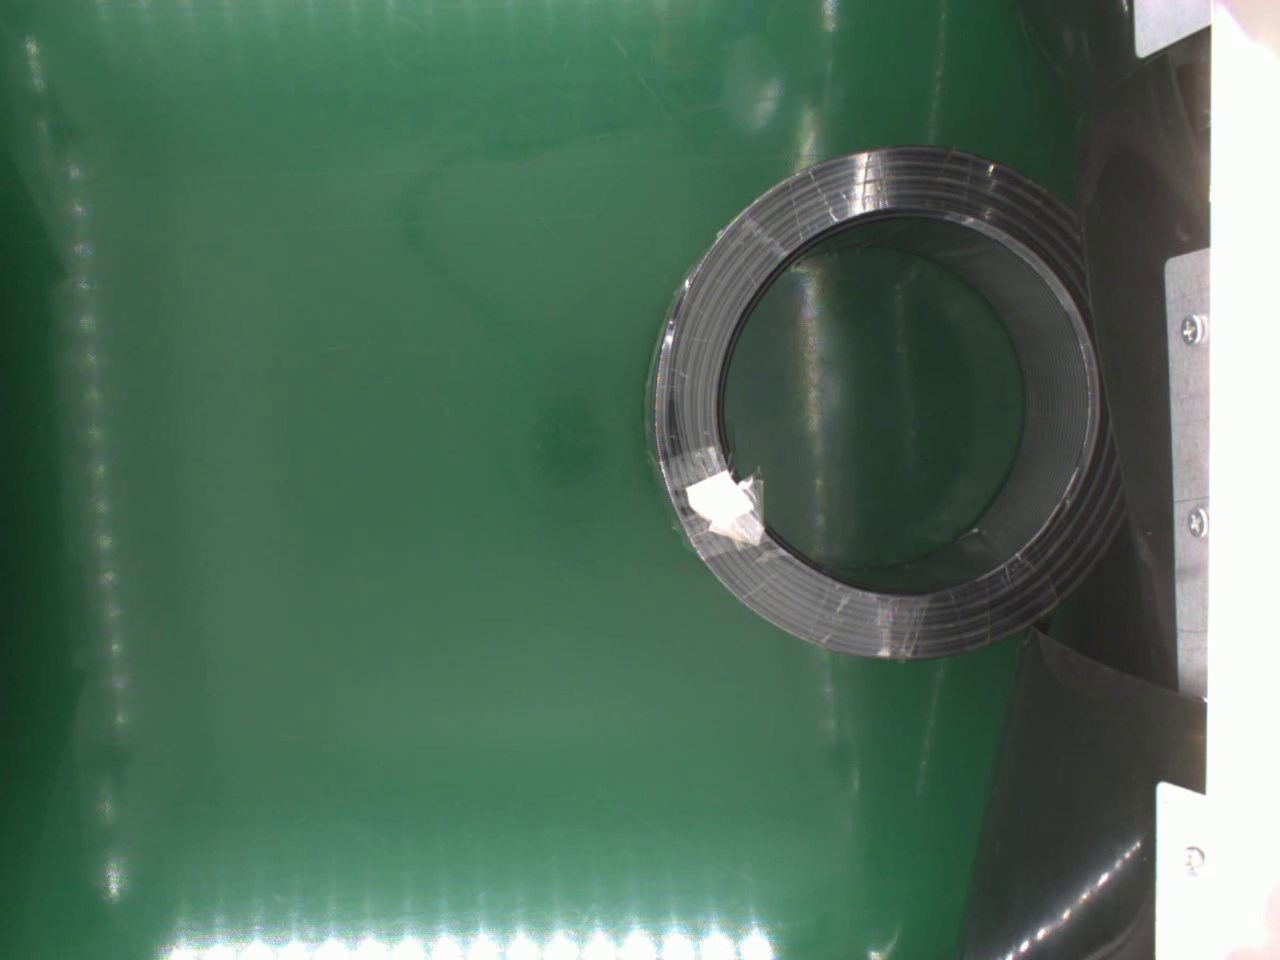black: (642, 139, 1122, 659)
